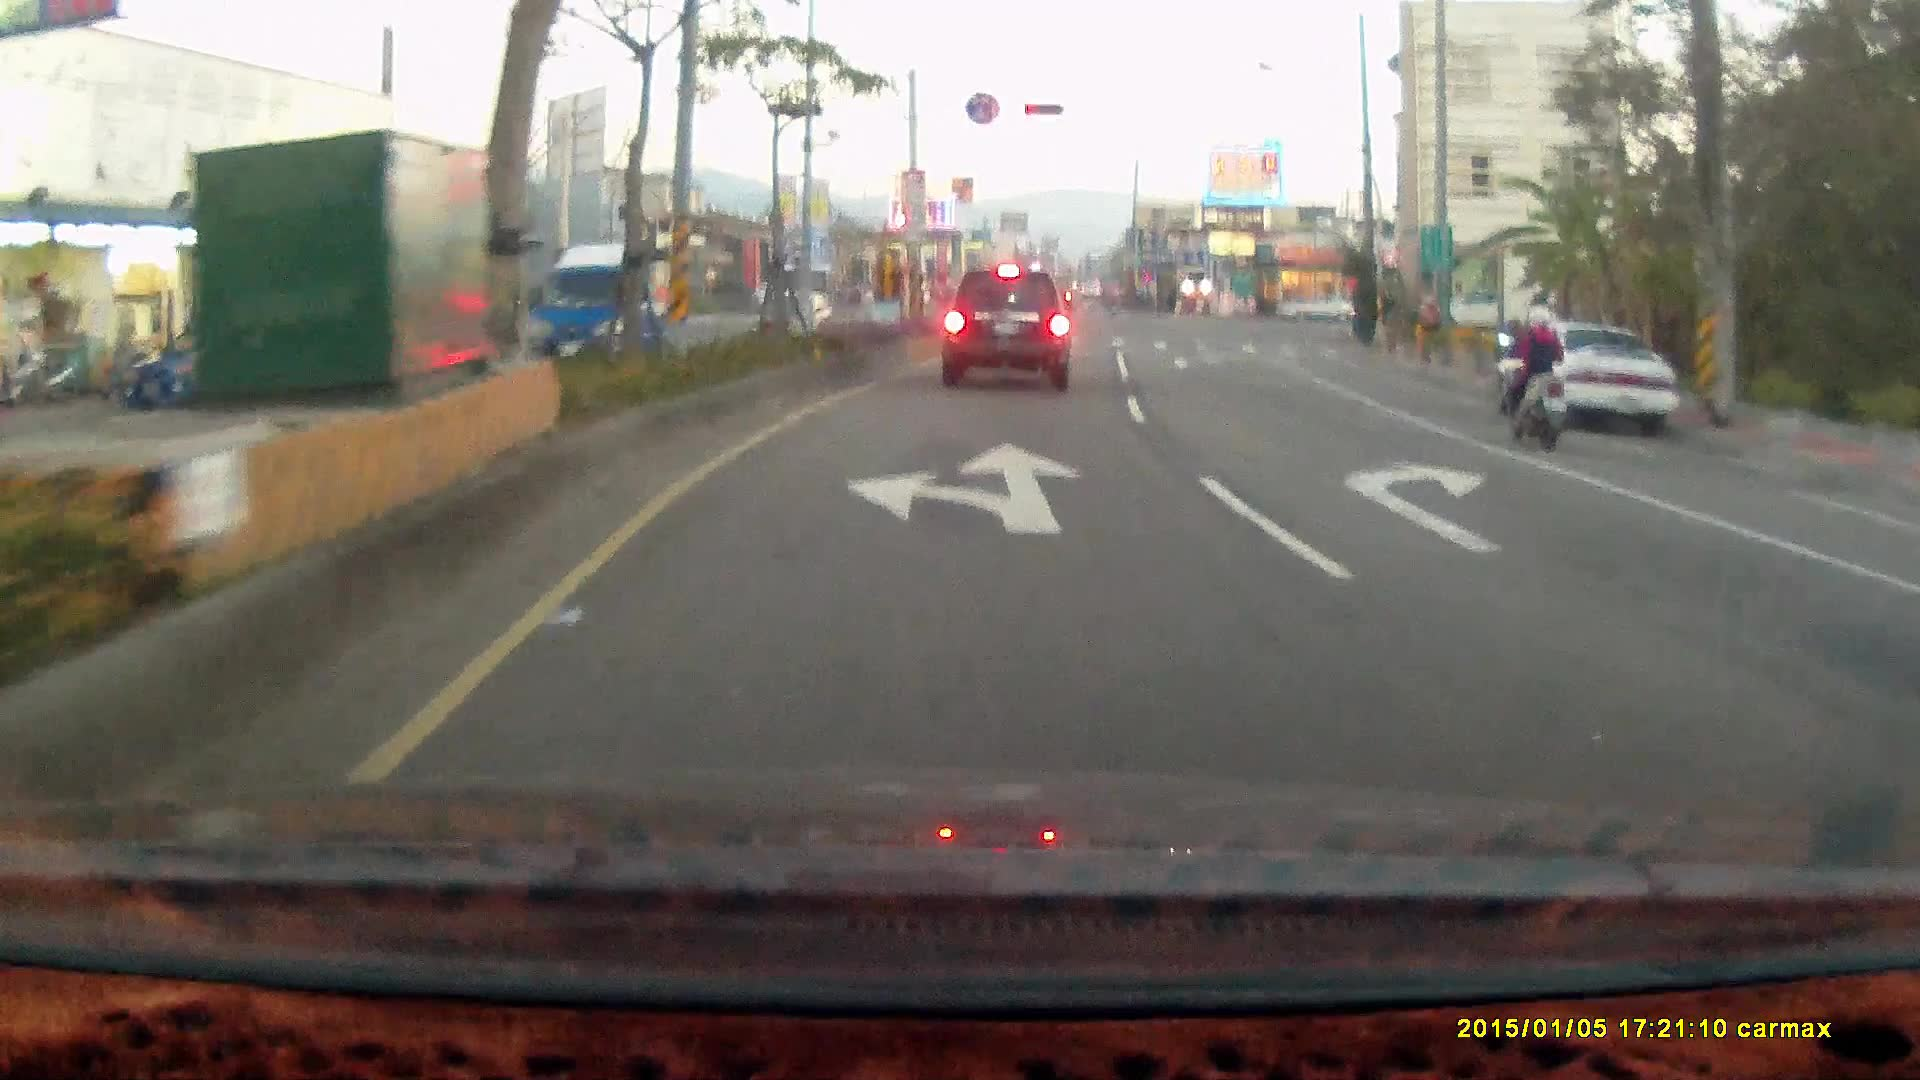rider: (1493, 303, 1572, 449)
vehicle: (519, 239, 692, 372), (1498, 322, 1679, 436), (1504, 326, 1687, 433), (940, 268, 1072, 390), (119, 338, 269, 409), (1896, 493, 1920, 836), (1883, 528, 1920, 690), (1428, 287, 1528, 334), (1275, 294, 1358, 325)
